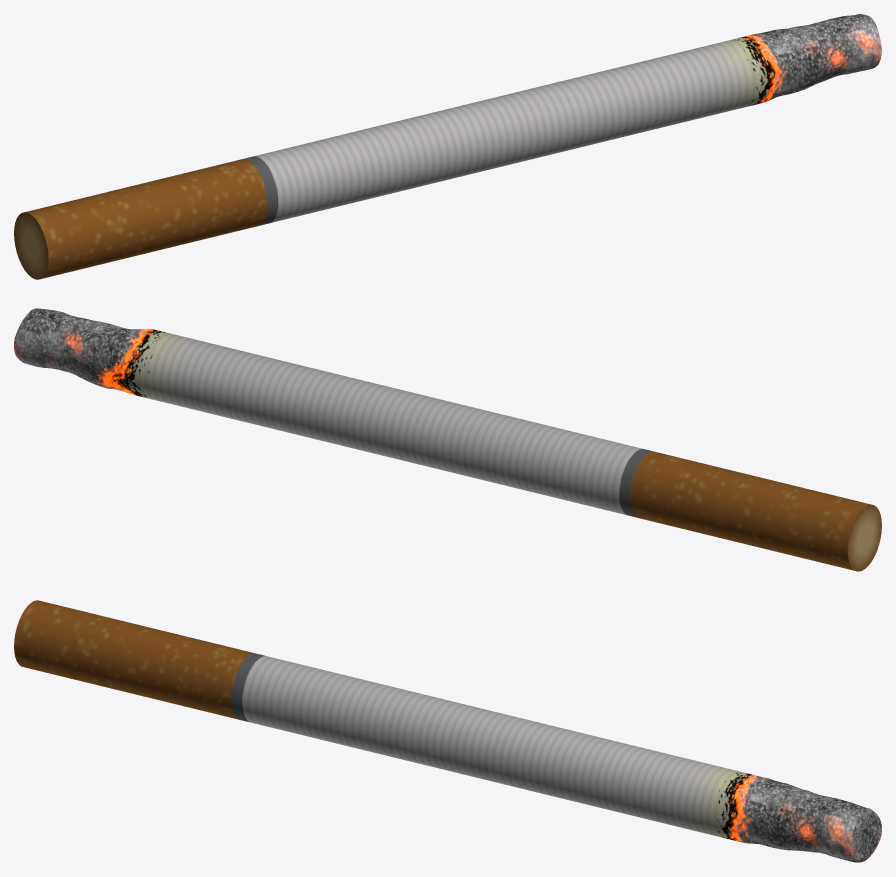
Rendered from walter's cigs.fbx.
3 renders of one model, top to bottom at view 1: azimuth 30°, elevation 25°; view 2: azimuth 150°, elevation 25°; view 3: azimuth 330°, elevation 25°, orthographic.
Visible parts, largest first — view 1: Cig_burning; view 2: Cig_burning; view 3: Cig_burning.
Boxes of the visible parts, <box> form: Cig_burning: <box>14,14,881,279</box>; Cig_burning: <box>14,308,881,571</box>; Cig_burning: <box>14,600,881,862</box>.
Bounding box in the file's own units: 66.26 × 4.7 × 4.78.
Materials: 1 (1 with a texture image).
